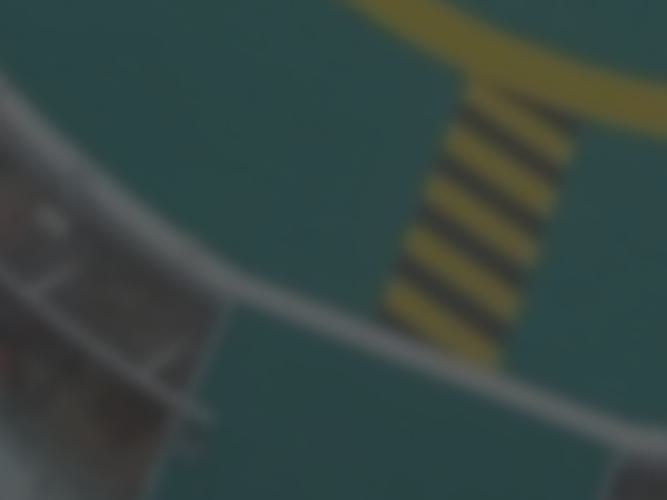Apron: (355, 1, 660, 170)
